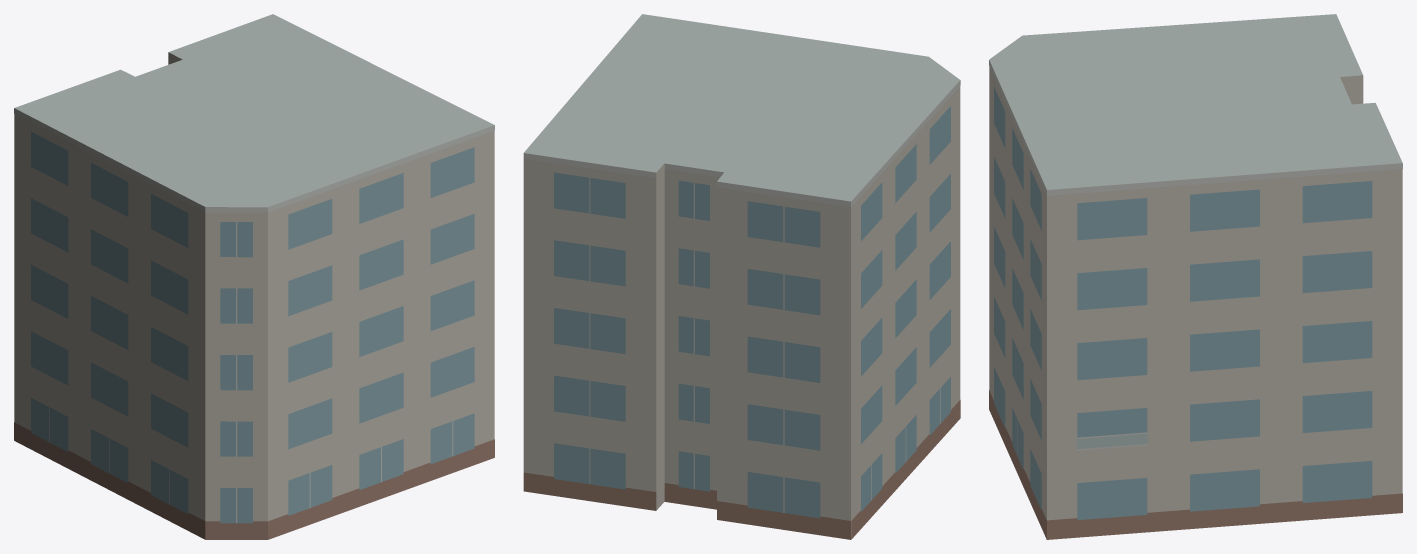
File: survey-upis-32851995.glb
3 views of the same model, side by side, from view 1: azimuth 30°, elevation 25°; view 2: azimuth 150°, elevation 25°; view 3: azimuth 270°, elevation 25° (orthographic). The views are drawn at different scales.
Parts seen in each view (by area): view 1: survey-upis-32851995.tmp; view 2: survey-upis-32851995.tmp; view 3: survey-upis-32851995.tmp.
Part boxes in pixels (x1=…): survey-upis-32851995.tmp: x1=14, y1=14, x2=494, y2=539; survey-upis-32851995.tmp: x1=523, y1=14, x2=960, y2=539; survey-upis-32851995.tmp: x1=989, y1=14, x2=1402, y2=539.
Bounding box in the file's own units: 15.98 × 14.8 × 15.87.
